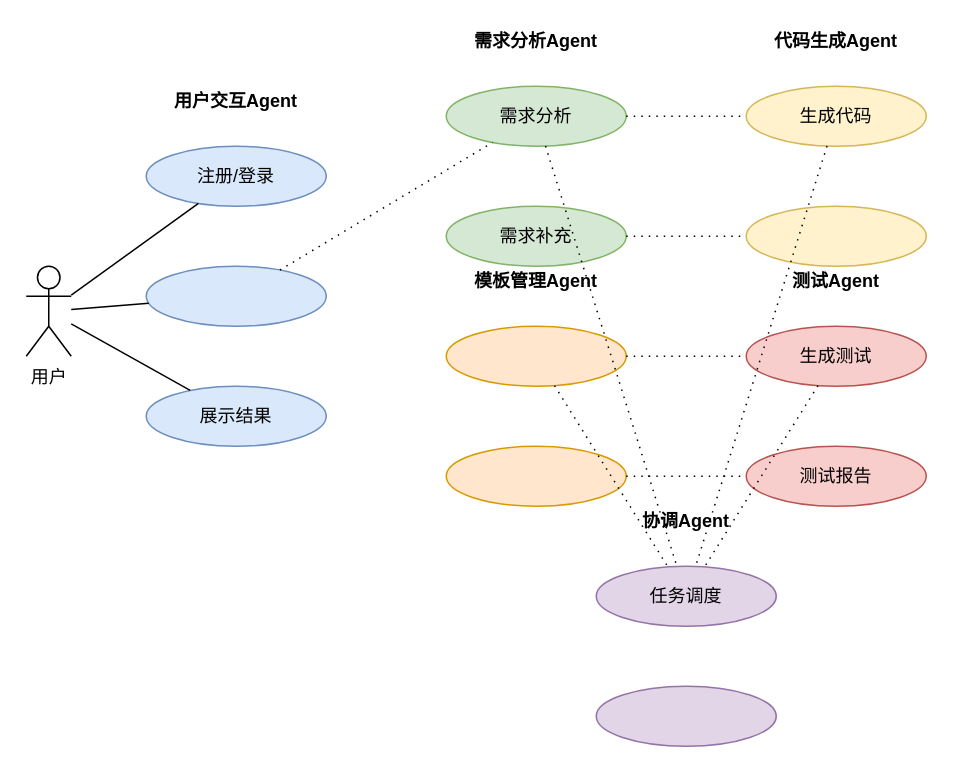
This 953x773 diagram has some shape labels left out. Each missing label, with the centre of its shape:
"代码优化" belongs at (x=835, y=235).
"异常处理" belongs at (x=685, y=715).
"收集需求" belongs at (x=235, y=295).
"模板匹配" belongs at (x=535, y=355).
"模板定制" belongs at (x=535, y=475).
